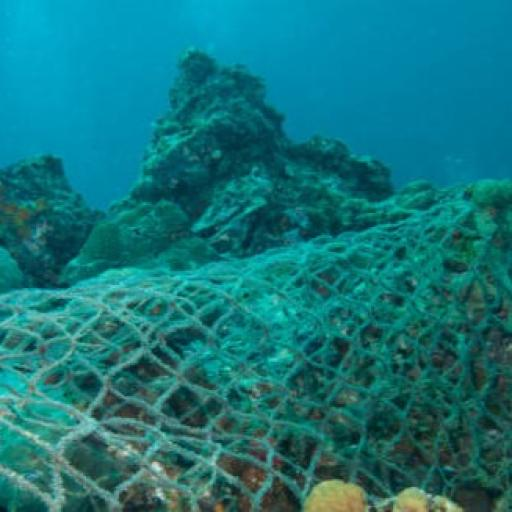net: (0, 183, 512, 512)
